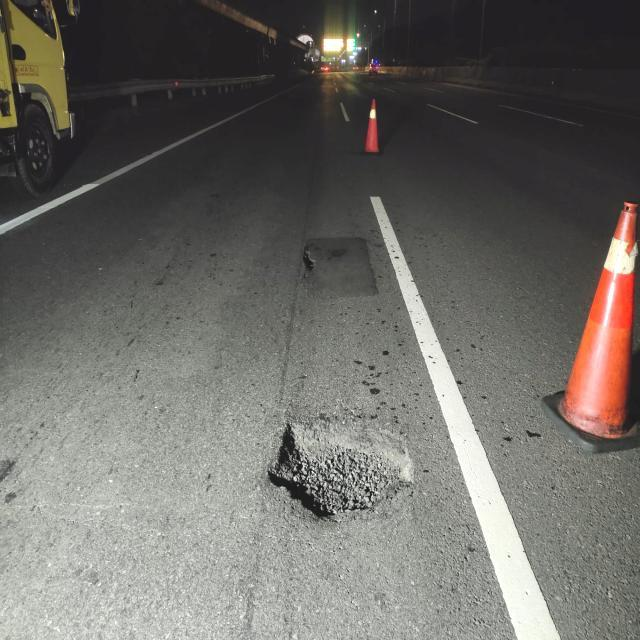Buraco: (264, 416, 420, 526), (299, 248, 319, 274)
